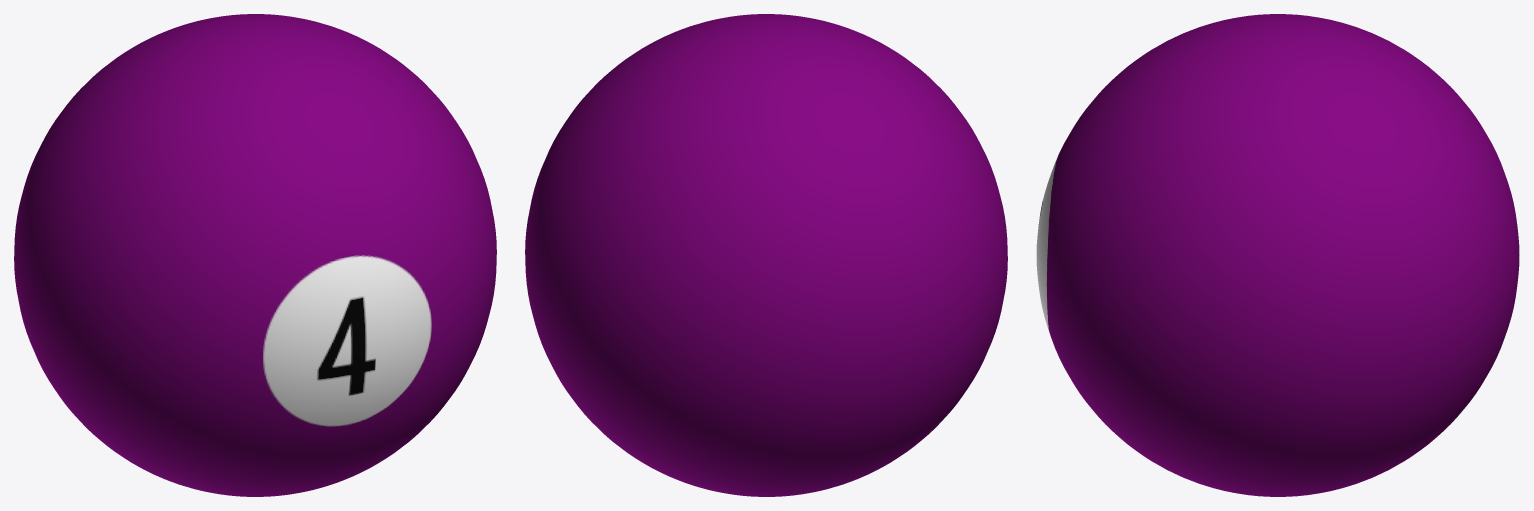
The model's file is Ball4.obj.
3 renders of one model, left to right at view 1: azimuth 30°, elevation 25°; view 2: azimuth 150°, elevation 25°; view 3: azimuth 270°, elevation 25°, orthographic.
Visible parts, largest first — view 1: Sphere; view 2: Sphere; view 3: Sphere.
Part boxes in pixels (<box>): Sphere: <box>14,14,496,496</box>; Sphere: <box>525,14,1007,496</box>; Sphere: <box>1036,14,1519,496</box>.
Size of the model in its own units: 2 by 2 by 2.
1 material, 1 textured.
